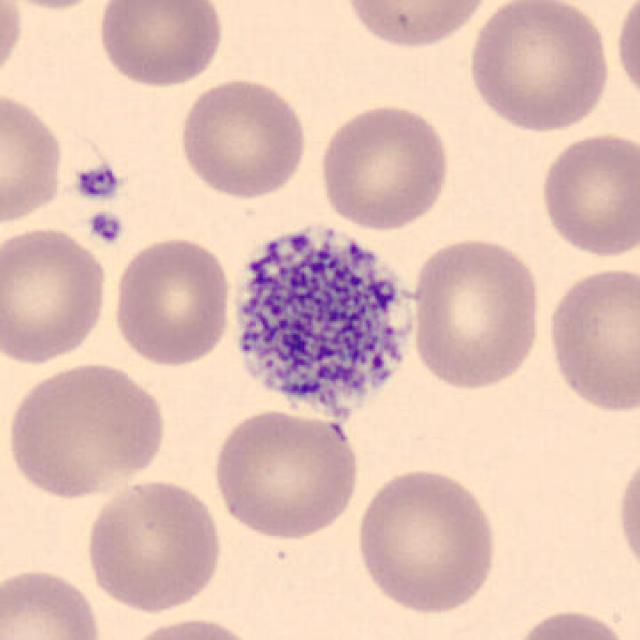Platelets: (220, 212, 425, 437), (71, 160, 125, 204), (84, 208, 126, 247)
RBC: (2, 358, 169, 501), (351, 462, 502, 617), (407, 233, 546, 395), (206, 406, 364, 543), (80, 474, 226, 616), (464, 0, 615, 134), (315, 100, 453, 232), (174, 74, 311, 201), (108, 232, 234, 368), (0, 224, 112, 368), (542, 261, 638, 418), (535, 129, 638, 261), (94, 0, 228, 90), (0, 85, 68, 229), (0, 564, 105, 640), (340, 0, 494, 51), (503, 604, 634, 640), (611, 444, 640, 585), (114, 613, 265, 640), (611, 0, 640, 109), (0, 0, 25, 92), (0, 0, 112, 12)
